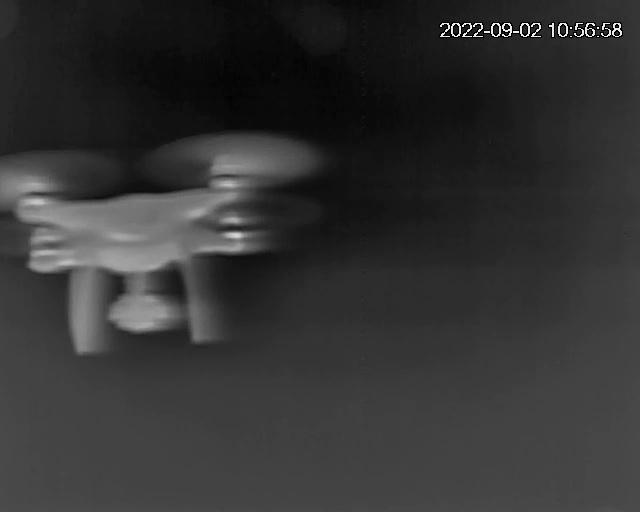DJI-Phantom: (2, 164, 289, 347)
